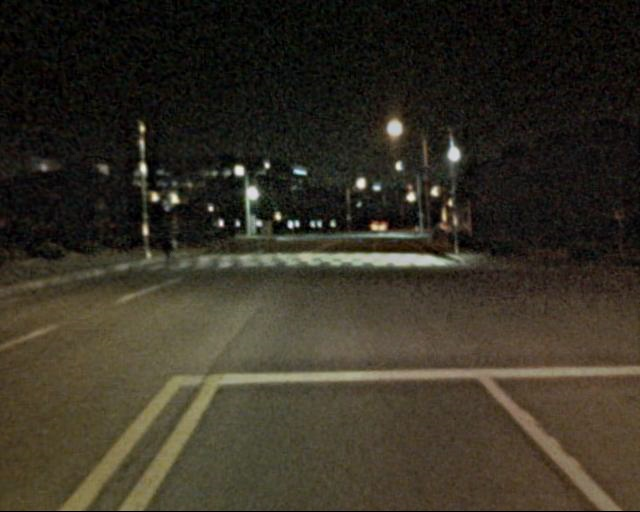person: (157, 225, 178, 278)
